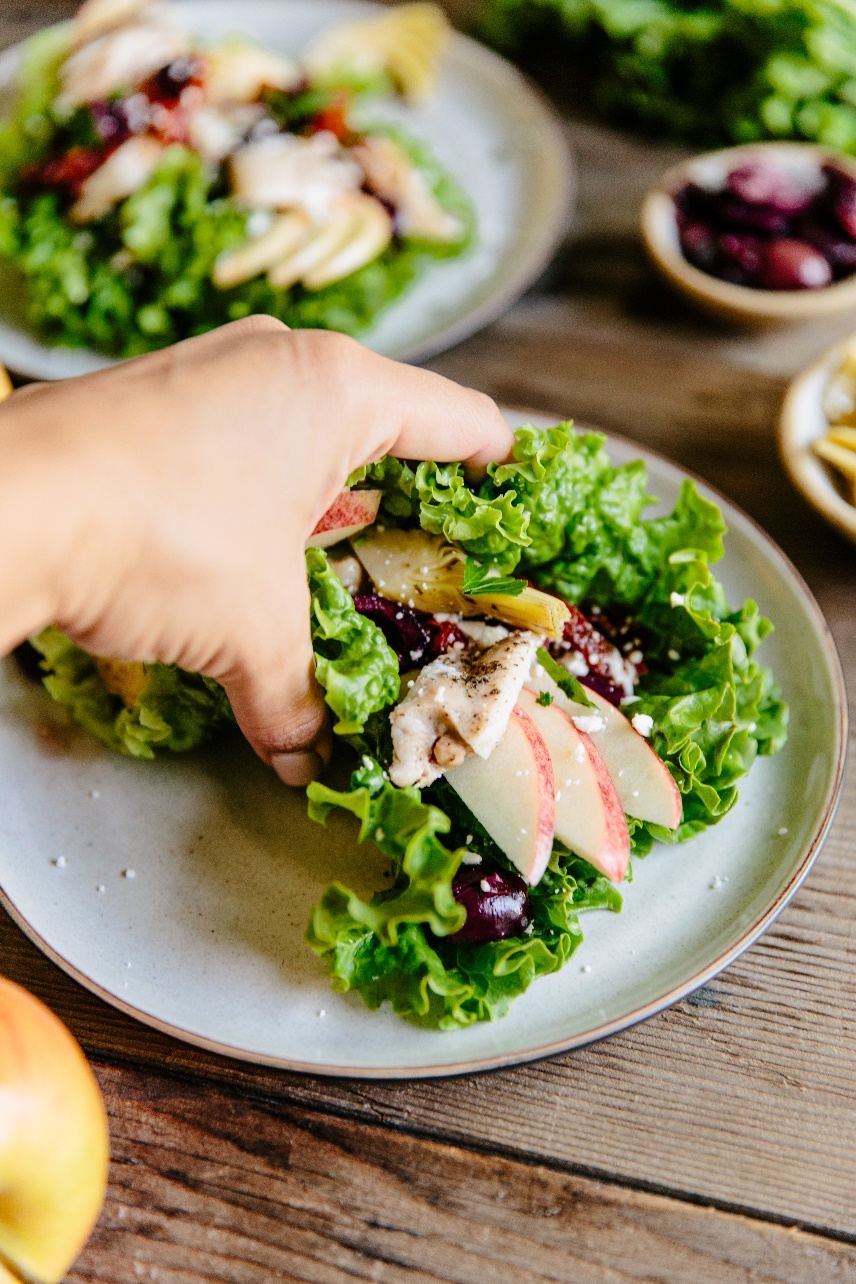chopped lettuce: (482, 460, 775, 707), (288, 830, 514, 1026)
